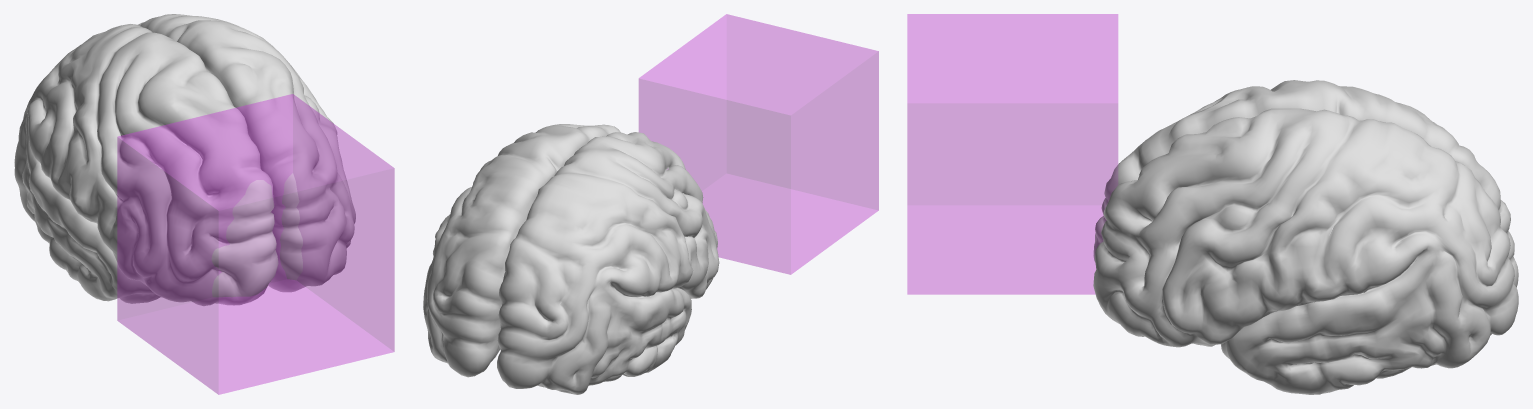
The model's file is brain14.glb.
The picture shows the model from 3 angles, left to right: view 1: azimuth 30°, elevation 25°; view 2: azimuth 150°, elevation 25°; view 3: azimuth 270°, elevation 25°; orthographic projection. The views are drawn at different scales.
Visible parts, largest first — view 1: V1_1:jianmian_03:Group1, Cube; view 2: V1_1:jianmian_03:Group1, Cube; view 3: V1_1:jianmian_03:Group1, Cube.
Boxes of the visible parts, x1,y1,x2,y2 form: V1_1:jianmian_03:Group1: (14,14,355,305); Cube: (117,94,394,394); V1_1:jianmian_03:Group1: (423,124,719,394); Cube: (639,14,878,274); V1_1:jianmian_03:Group1: (1093,80,1518,394); Cube: (907,14,1117,294).
Size of the model in its own units: 1.85 by 1.51 by 3.3.
